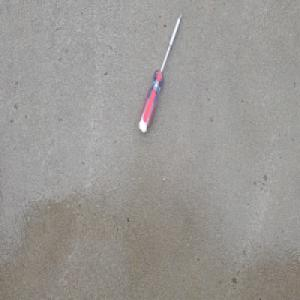Screwdriver: (137, 11, 183, 135)
